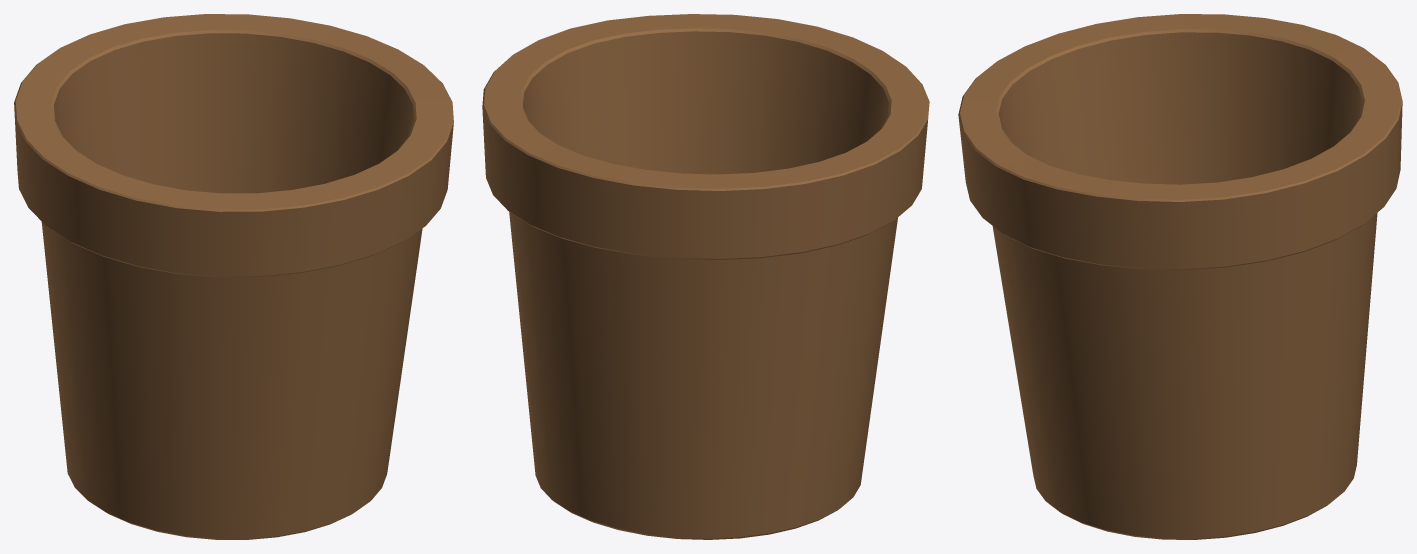
File: Pot3.fbx
3 views of the same model, side by side, from view 1: azimuth 30°, elevation 25°; view 2: azimuth 150°, elevation 25°; view 3: azimuth 270°, elevation 25° (orthographic).
Parts seen in each view (by area): view 1: Pot3.002; view 2: Pot3.002; view 3: Pot3.002.
Part boxes in pixels (x1,y1,x2,y2): Pot3.002: [14, 14, 453, 539]; Pot3.002: [482, 14, 929, 539]; Pot3.002: [958, 14, 1402, 539].
Size of the model in its own units: 51.26 by 48.24 by 51.28.
1 material, 1 textured.
